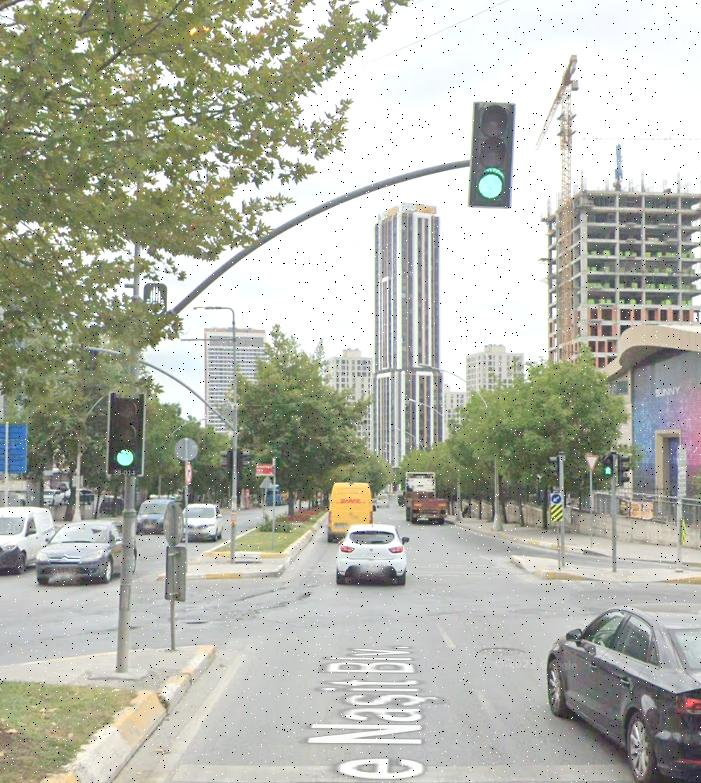greenlight: (468, 103, 513, 211), (107, 389, 144, 475), (602, 454, 617, 479)
